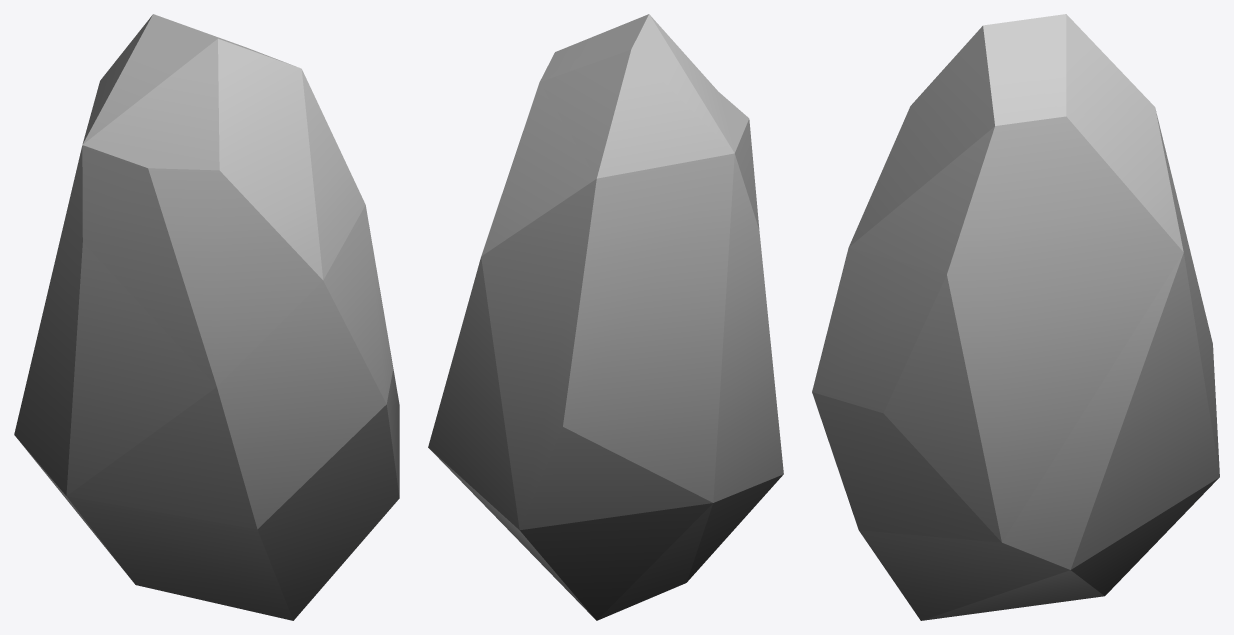
The model's file is Rock_1.fbx.
3 renders of one model, left to right at view 1: azimuth 30°, elevation 25°; view 2: azimuth 150°, elevation 25°; view 3: azimuth 270°, elevation 25°, orthographic. The views are drawn at different scales.
Visible parts, largest first — view 1: Icosphere.038; view 2: Icosphere.038; view 3: Icosphere.038.
Part boxes in pixels (bbox=[...]): Icosphere.038: bbox=[14, 14, 399, 620]; Icosphere.038: bbox=[428, 14, 783, 620]; Icosphere.038: bbox=[812, 14, 1219, 620].
Size of the model in its own units: 154 by 251 by 162.
